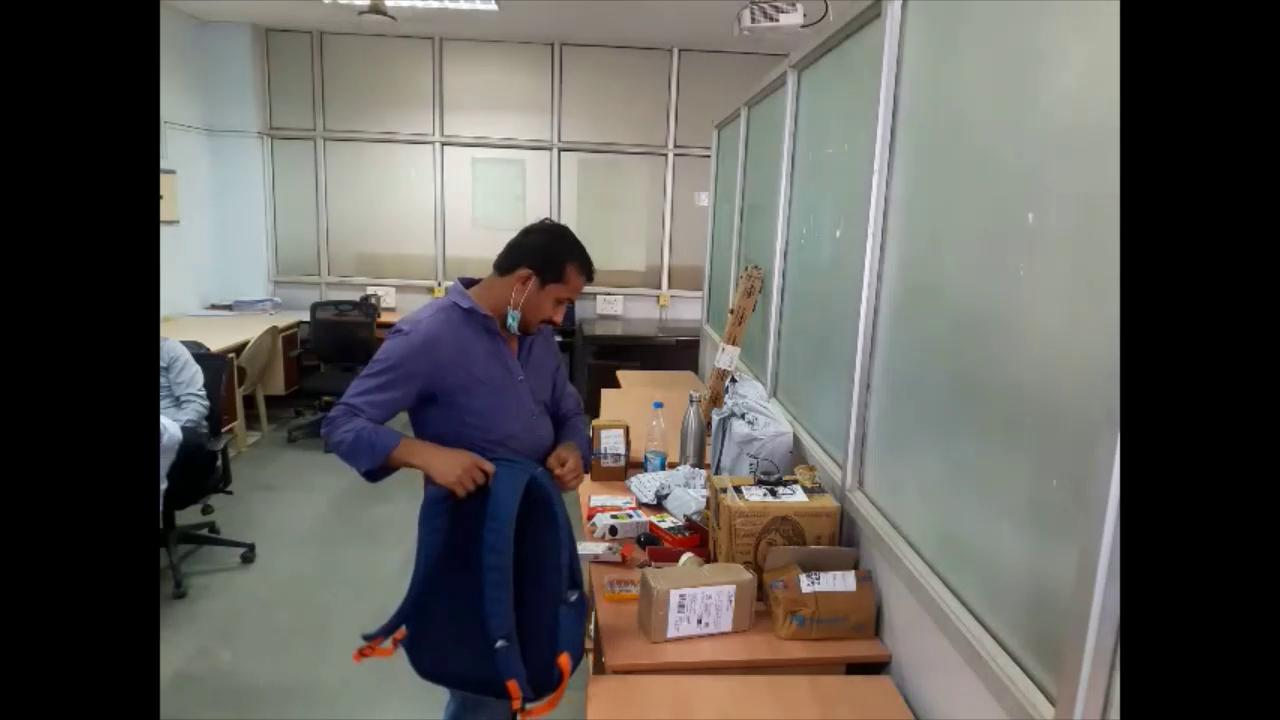shoplifting: (318, 219, 602, 720)
